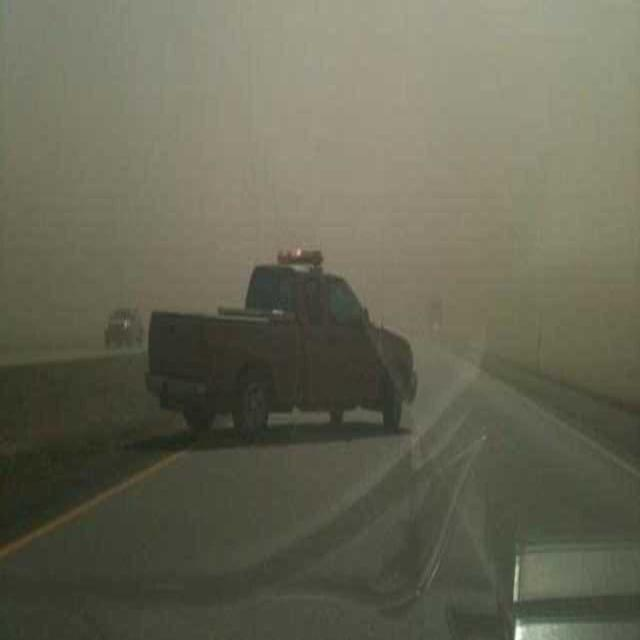bus: (146, 253, 414, 437)
car: (104, 306, 142, 347)
